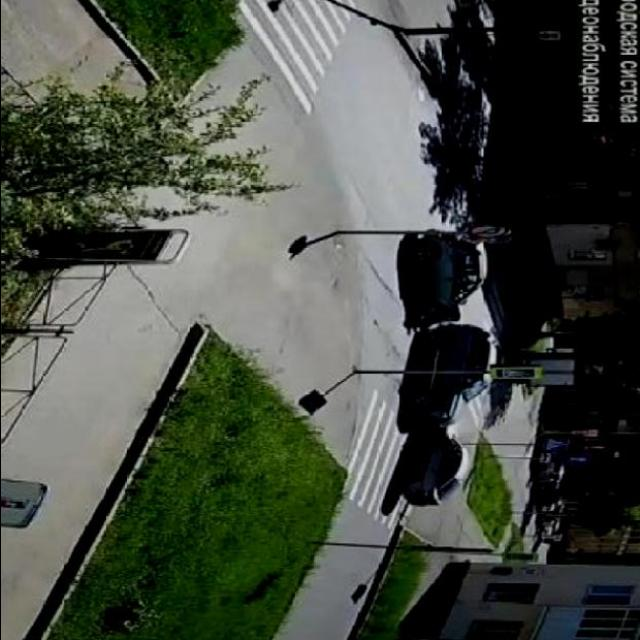accident: (395, 237, 490, 427)
